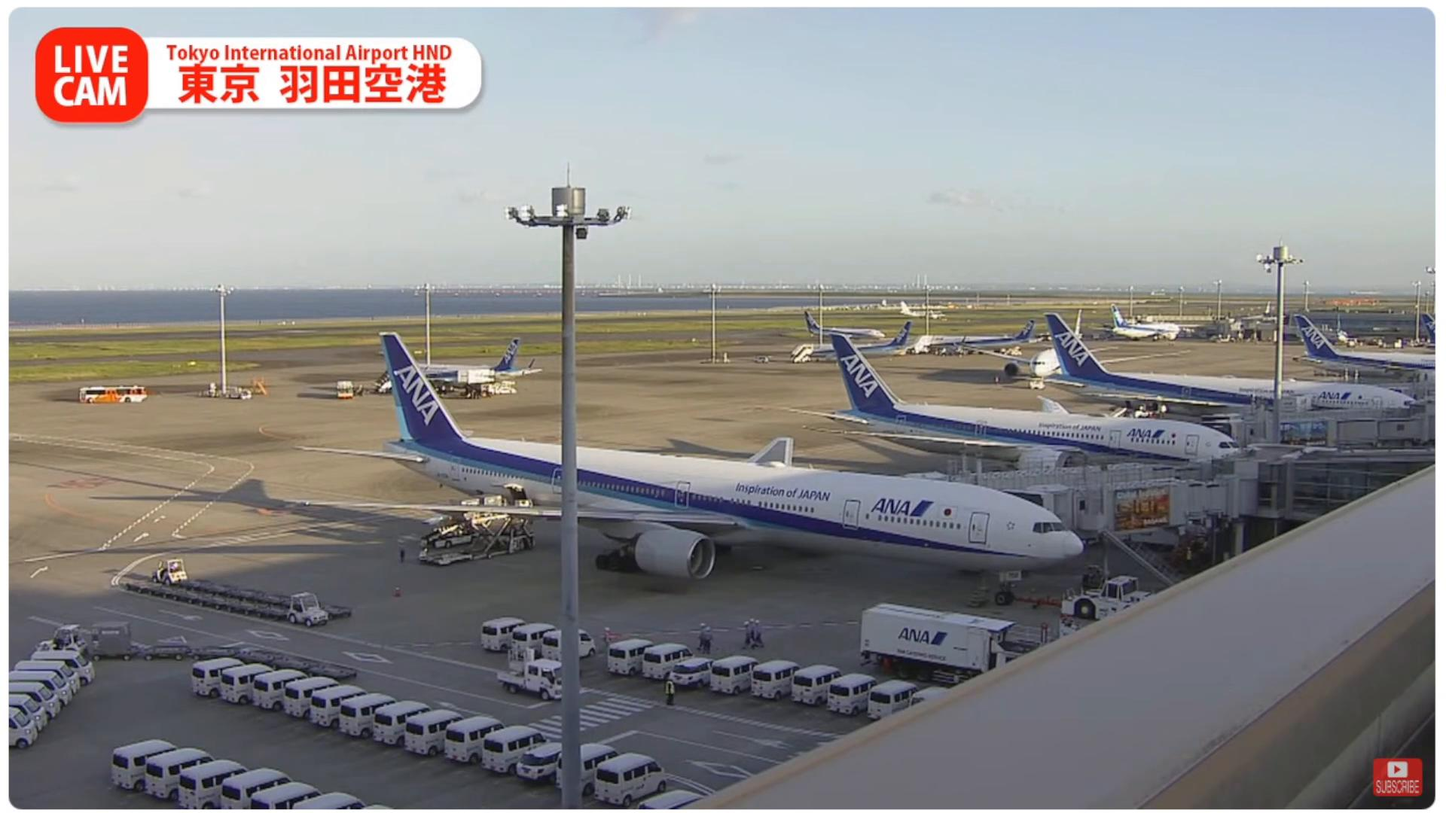APS: (1058, 574, 1155, 621)
Aerobridge: (990, 474, 1217, 523), (903, 458, 1204, 486)
Airplane: (290, 334, 1076, 584)
Catering: (859, 604, 1078, 691)
Dolly: (91, 621, 360, 682), (119, 578, 292, 622), (180, 578, 354, 621)
JCPL: (416, 509, 534, 564)
Skyloader: (424, 510, 487, 546)
Tractor: (36, 622, 91, 654), (288, 591, 331, 627), (150, 557, 192, 584)
Window: (1253, 443, 1435, 520)
